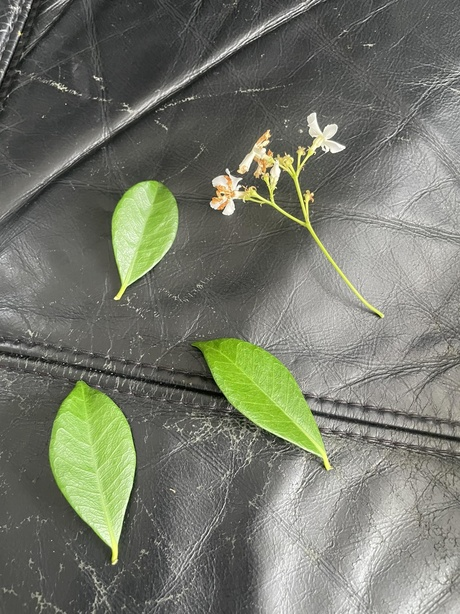leaf: (44, 371, 145, 567), (189, 328, 324, 463), (106, 171, 183, 298)
